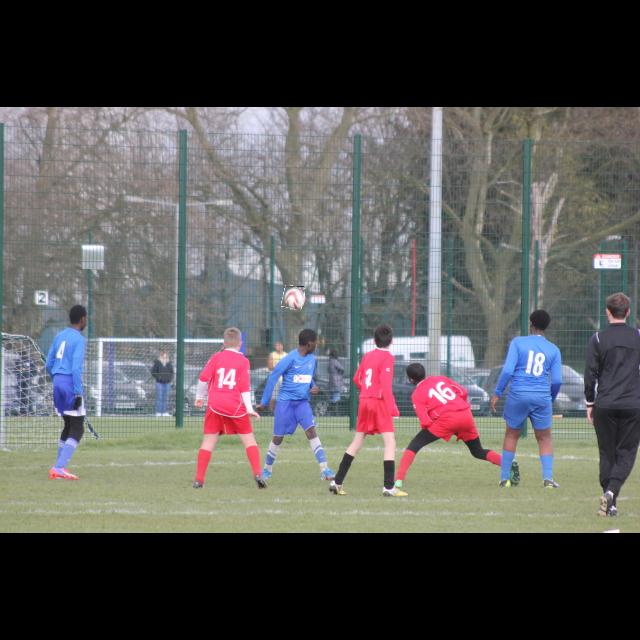Football: (282, 286, 304, 310)
